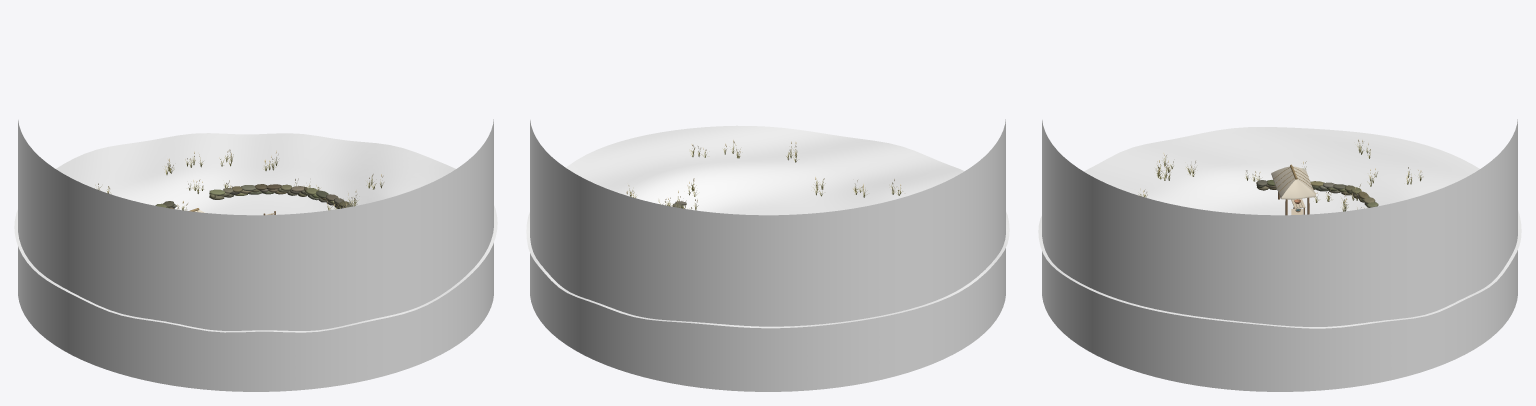
The model's file is kiln-dressing-v3.glb.
3 views of the same model, side by side, from view 1: azimuth 30°, elevation 25°; view 2: azimuth 150°, elevation 25°; view 3: azimuth 270°, elevation 25° (orthographic).
Parts seen in each view (by area): view 1: Valley panorama, Beaten clay yard and meadow banks, Dry laid terrace walls, Silvergrass on the terrace margins; view 2: Valley panorama, Beaten clay yard and meadow banks, Silvergrass on the terrace margins; view 3: Valley panorama, Beaten clay yard and meadow banks, Hipped roof with thick thatch eaves, Dry laid terrace walls, Silvergrass on the terrace margins.
Part boxes in pixels (x1,y1,x2,y2): Valley panorama: (18,119,493,391); Beaten clay yard and meadow banks: (14,133,497,332); Dry laid terrace walls: (155,184,353,208); Silvergrass on the terrace margins: (95,149,383,210); Valley panorama: (530,119,1005,391); Beaten clay yard and meadow banks: (526,125,1009,328); Silvergrass on the terrace margins: (626,140,902,210); Valley panorama: (1042,119,1517,391); Beaten clay yard and meadow banks: (1038,127,1521,328); Hipped roof with thick thatch eaves: (1271,166,1315,199); Dry laid terrace walls: (1256,180,1378,207); Silvergrass on the terrace margins: (1138,139,1423,211).
Bounding box in the file's own units: 28 × 11.3 × 28.
